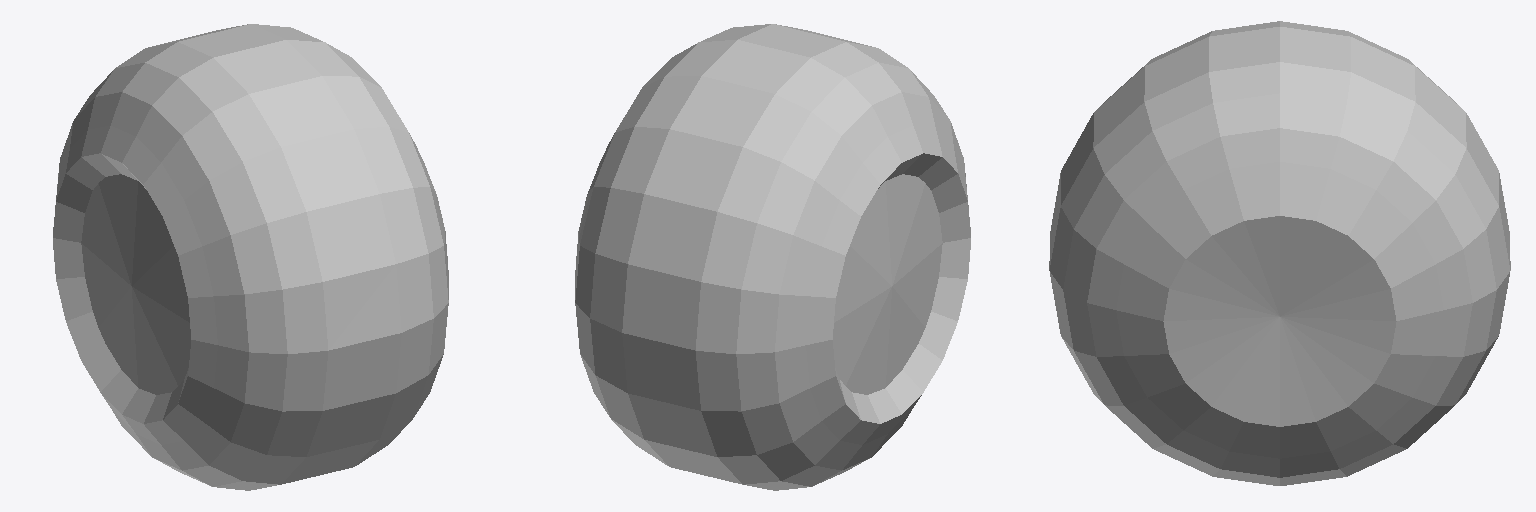
Rendered from Back Right Tire.obj.
3 renders of one model, left to right at view 1: azimuth 30°, elevation 25°; view 2: azimuth 150°, elevation 25°; view 3: azimuth 270°, elevation 25°, orthographic.
Visible parts, largest first — view 1: TireB_F__m_Tire; view 2: TireB_F__m_Tire; view 3: TireB_F__m_Tire.
Boxes of the visible parts, x1=… form: TireB_F__m_Tire: x1=53, y1=24, x2=448, y2=490; TireB_F__m_Tire: x1=575, y1=24, x2=970, y2=490; TireB_F__m_Tire: x1=1049, y1=21, x2=1510, y2=485.
Size of the model in its own units: 0.4051 by 0.6034 by 0.6035.